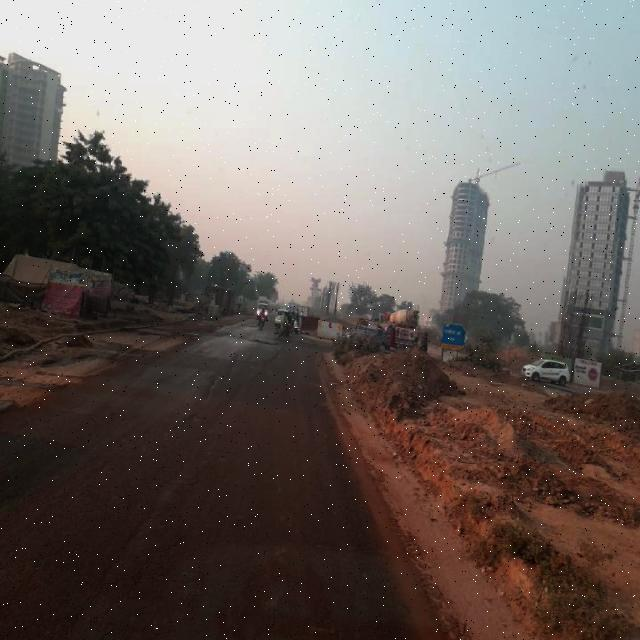D00: (203, 350, 237, 403)
D20: (20, 423, 217, 625)
D40: (175, 401, 211, 433)
